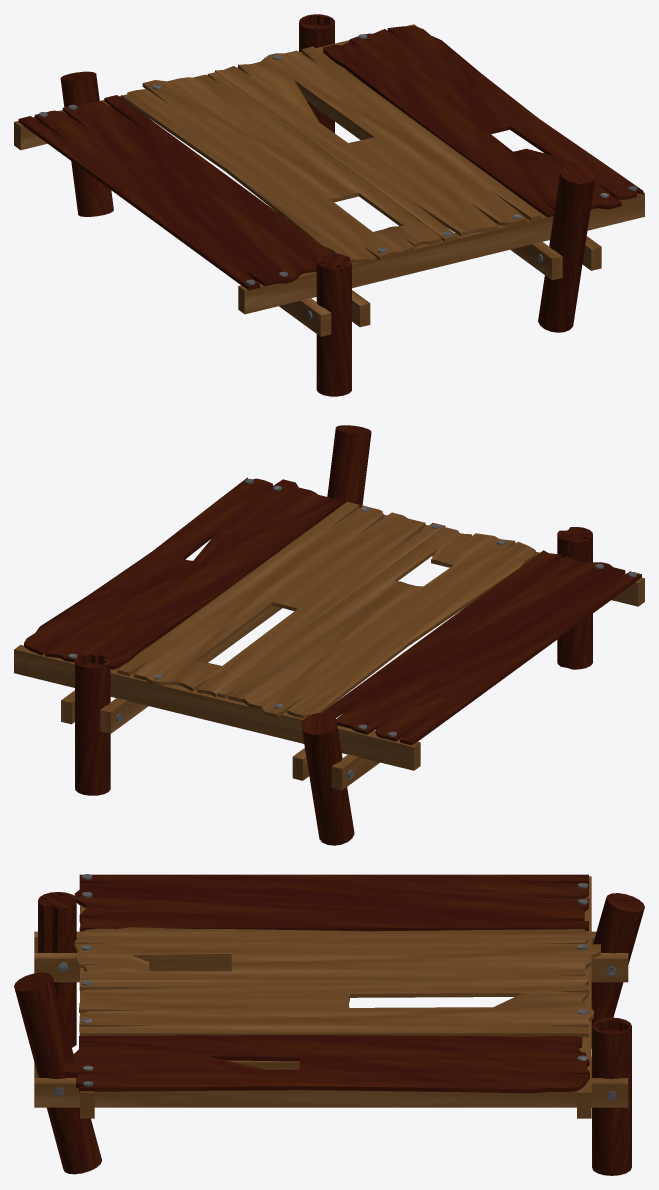
The model's file is Wooden dock.fbx.
The picture shows the model from 3 angles, top to bottom: view 1: azimuth 30°, elevation 25°; view 2: azimuth 150°, elevation 25°; view 3: azimuth 270°, elevation 25°; orthographic projection. The views are drawn at different scales.
Parts seen in each view (by area): view 1: Dock; view 2: Dock; view 3: Dock.
Boxes of the visible parts, left/top/right/bottom form: Dock: left=14, top=14, right=644, bottom=396; Dock: left=14, top=425, right=644, bottom=845; Dock: left=14, top=874, right=644, bottom=1175.
Size of the model in its own units: 529 by 219 by 651.
Materials: 1 (1 with a texture image).
